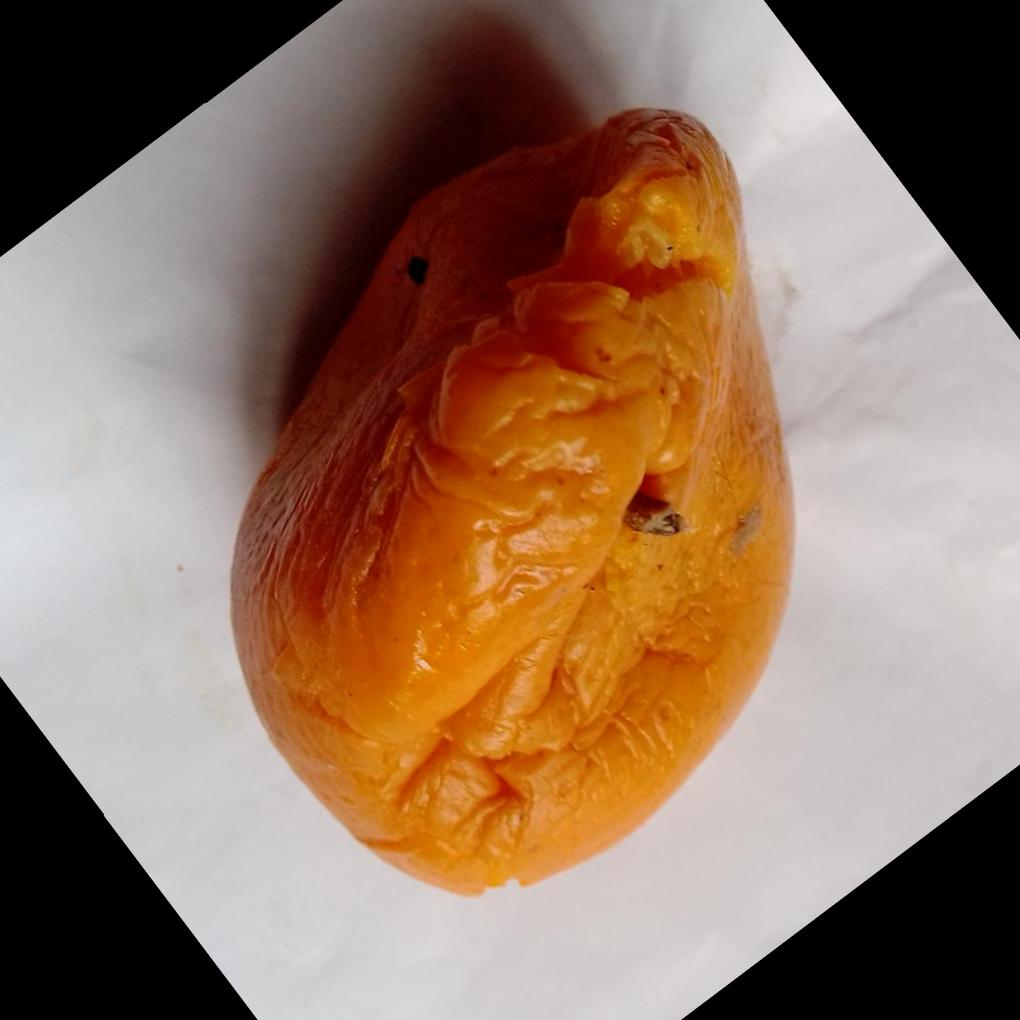FreshOrange: (228, 102, 800, 896)
